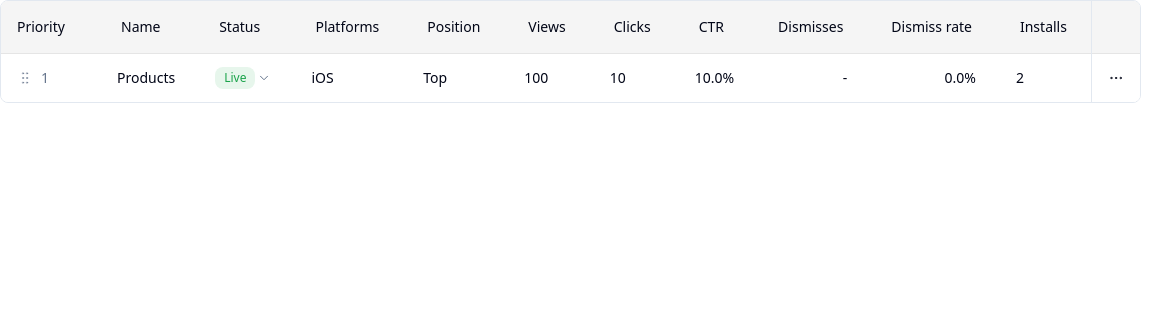
Test: SmartBannersTable › offers a live banner its actions
Click the button named "Actions for Products" at (1116, 78), box [1100, 62, 1132, 94]
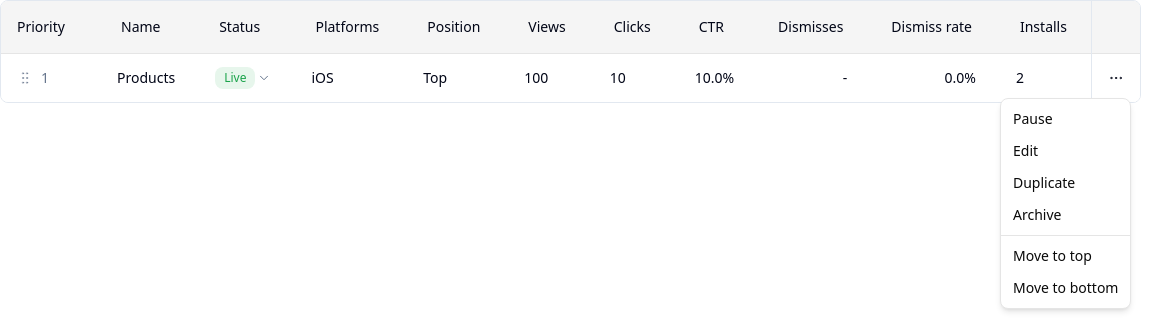
Expected: the menu items read "Pause", "Edit", "Duplicate", "Archive", "Move to top", "Move to bottom", in this order, [1013, 109, 1053, 128]; [1013, 141, 1038, 160]; [1013, 173, 1075, 192]; [1013, 205, 1062, 224]; [1013, 246, 1092, 265]; [1013, 278, 1118, 297]
